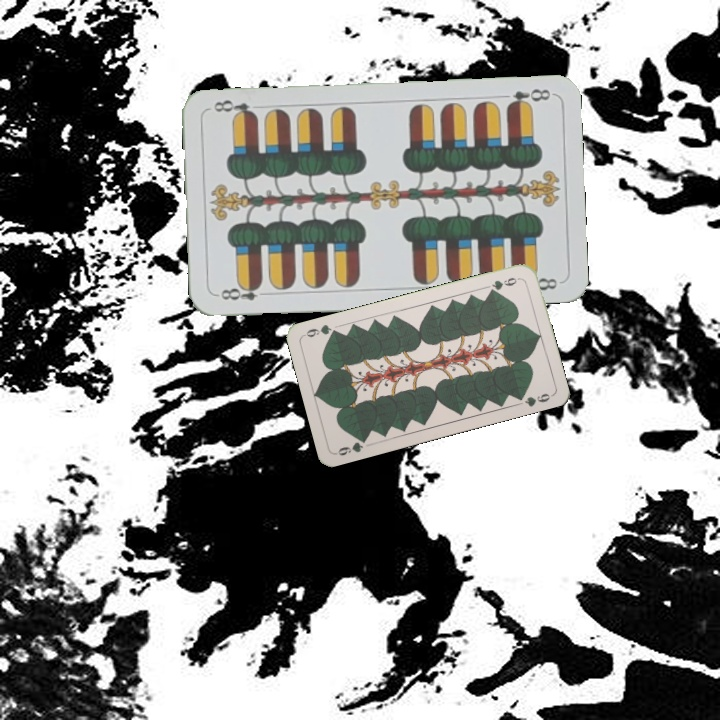E8: (503, 84, 554, 110), (213, 280, 264, 303)
G9: (332, 433, 370, 458), (485, 273, 523, 295)
